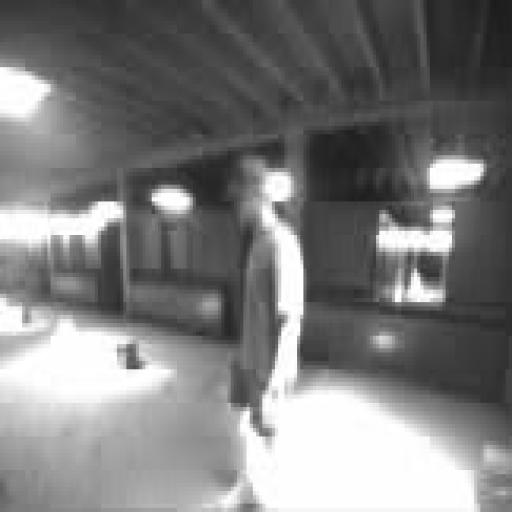human: (225, 156, 303, 507)
